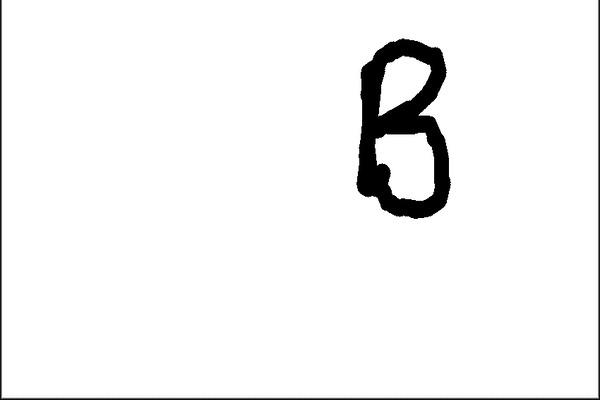B: (347, 33, 459, 229)
